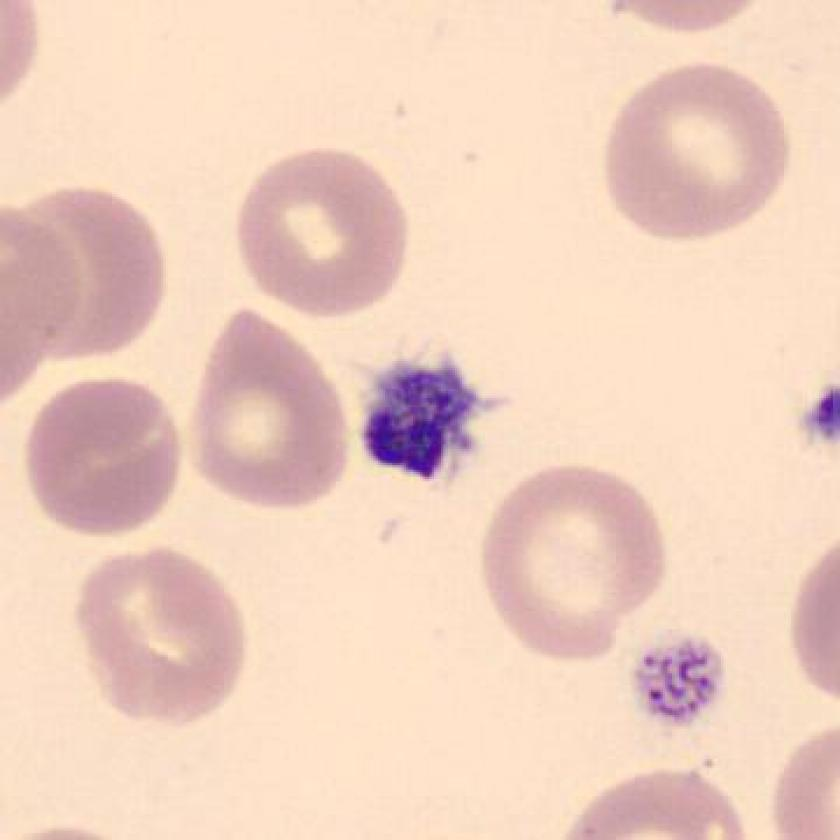platelets: (354, 337, 515, 492), (631, 626, 734, 737), (787, 367, 840, 462)
